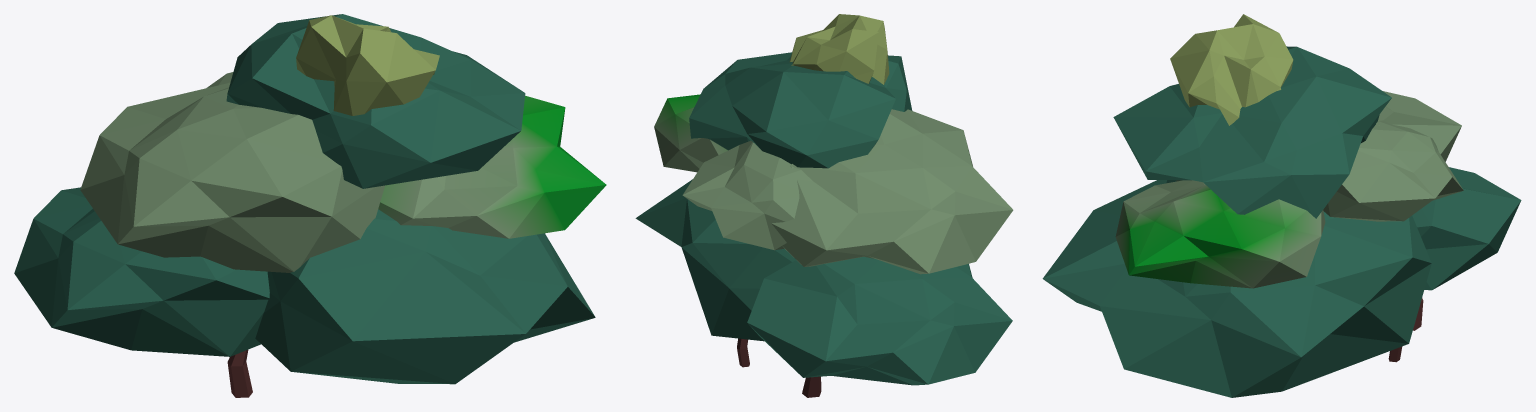
Rendered from lipa_bk1.fbx.
3 renders of one model, left to right at view 1: azimuth 30°, elevation 25°; view 2: azimuth 150°, elevation 25°; view 3: azimuth 270°, elevation 25°, orthographic. The views are drawn at different scales.
Parts seen in each view (by area): view 1: Icosphere, Icosphere.004, Icosphere.003, Icosphere.001, Icosphere.002, Icosphere.006, Cylinder.002; view 2: Icosphere.003, Icosphere.004, Icosphere.001, Icosphere, Icosphere.005, Icosphere.006, Icosphere.002, Cylinder.003; view 3: Icosphere, Icosphere.001, Icosphere.002, Icosphere.005, Icosphere.006, Icosphere.003, Icosphere.004.
Boxes of the visible parts, bbox=[...] form: Icosphere: bbox=[255, 209, 595, 384]; Icosphere.004: bbox=[80, 83, 385, 272]; Icosphere.003: bbox=[14, 187, 269, 356]; Icosphere.001: bbox=[226, 14, 525, 188]; Icosphere.002: bbox=[378, 95, 606, 238]; Icosphere.006: bbox=[296, 15, 439, 115]; Cylinder.002: bbox=[227, 350, 252, 397]; Icosphere.003: bbox=[747, 257, 1012, 385]; Icosphere.004: bbox=[771, 109, 1013, 274]; Icosphere.001: bbox=[689, 52, 912, 168]; Icosphere: bbox=[635, 179, 795, 341]; Icosphere.005: bbox=[682, 141, 812, 250]; Icosphere.006: bbox=[789, 14, 889, 84]; Icosphere.002: bbox=[654, 94, 727, 172]; Cylinder.003: bbox=[802, 376, 821, 397]; Icosphere: bbox=[1042, 180, 1431, 397]; Icosphere.001: bbox=[1113, 46, 1391, 218]; Icosphere.002: bbox=[1115, 180, 1325, 288]; Icosphere.005: bbox=[1323, 120, 1463, 221]; Icosphere.006: bbox=[1170, 14, 1293, 125]; Icosphere.003: bbox=[1412, 167, 1521, 290]; Icosphere.004: bbox=[1176, 91, 1461, 181].
Size of the model in its own units: 290 by 217 by 295.
